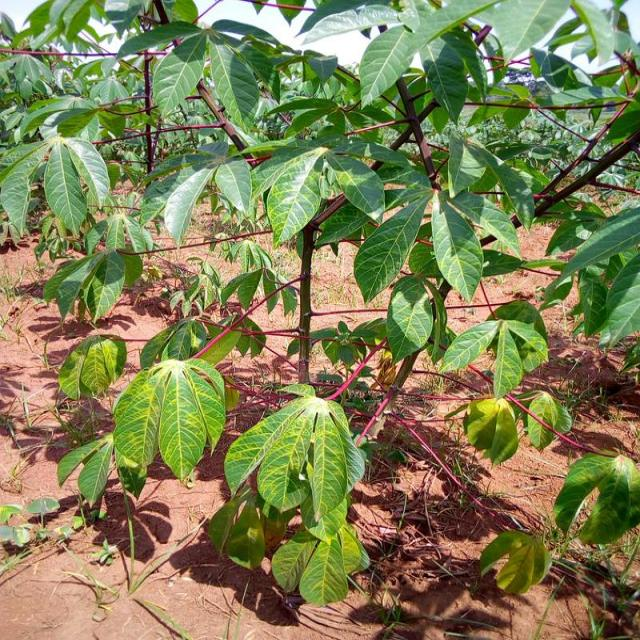cassava leaf: (223, 392, 366, 538), (552, 451, 639, 545)
